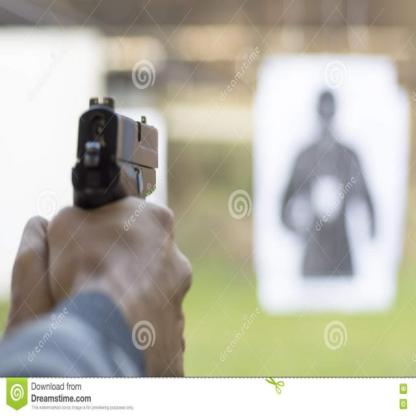handgun: (71, 95, 159, 211)
